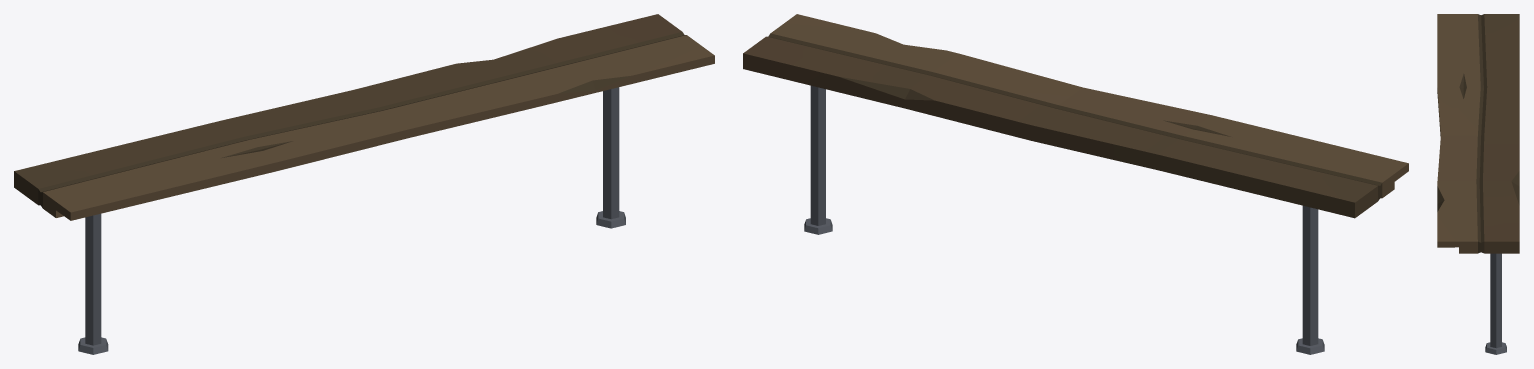
The model's file is bench.glb.
3 renders of one model, left to right at view 1: azimuth 30°, elevation 25°; view 2: azimuth 150°, elevation 25°; view 3: azimuth 270°, elevation 25°, orthographic. The views are drawn at different scales.
Visible parts, largest first — view 1: SM_Prop_Stall_Bench_01; view 2: SM_Prop_Stall_Bench_01; view 3: SM_Prop_Stall_Bench_01.
Part boxes in pixels (x1,y1,x2,y2): SM_Prop_Stall_Bench_01: [14, 14, 714, 354]; SM_Prop_Stall_Bench_01: [743, 14, 1408, 354]; SM_Prop_Stall_Bench_01: [1437, 14, 1519, 354].
Size of the model in its own units: 364 by 97.36 by 55.48.
1 material, 1 textured.
